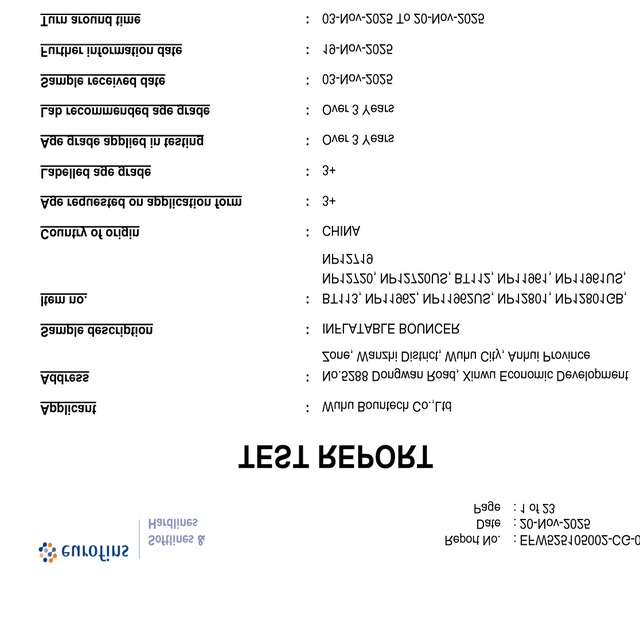eurofins: (32, 533, 135, 573)
